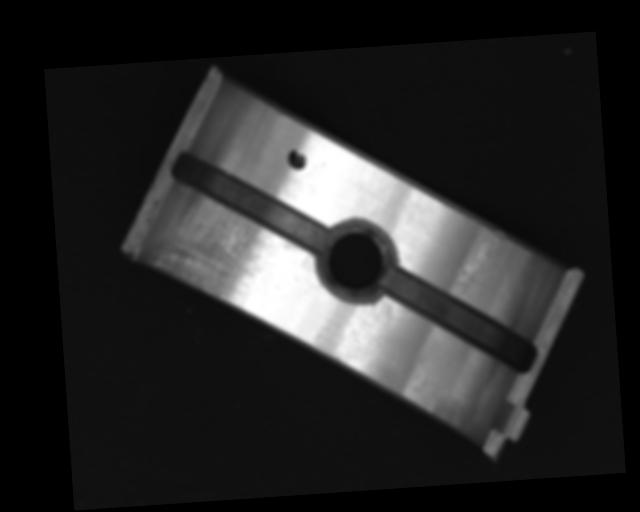blot: (285, 148, 307, 170)
bruise: (408, 371, 428, 393)
gap: (381, 260, 540, 382), (170, 145, 328, 260)
hole: (315, 219, 400, 305)
nick: (450, 229, 508, 294)
scratch: (144, 191, 298, 318)
